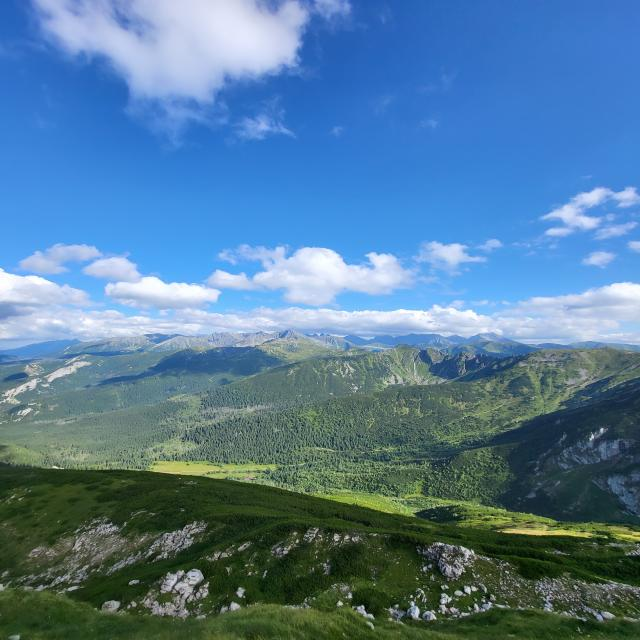Kasprowy Wierch: (252, 324, 312, 355)
Kozi Wierch: (229, 313, 293, 353)
Krivan: (457, 318, 516, 348)
Skrajny i Posredni Granat: (196, 322, 250, 344)
Swinica: (258, 311, 324, 348)
Velka kopa: (457, 327, 515, 352)
